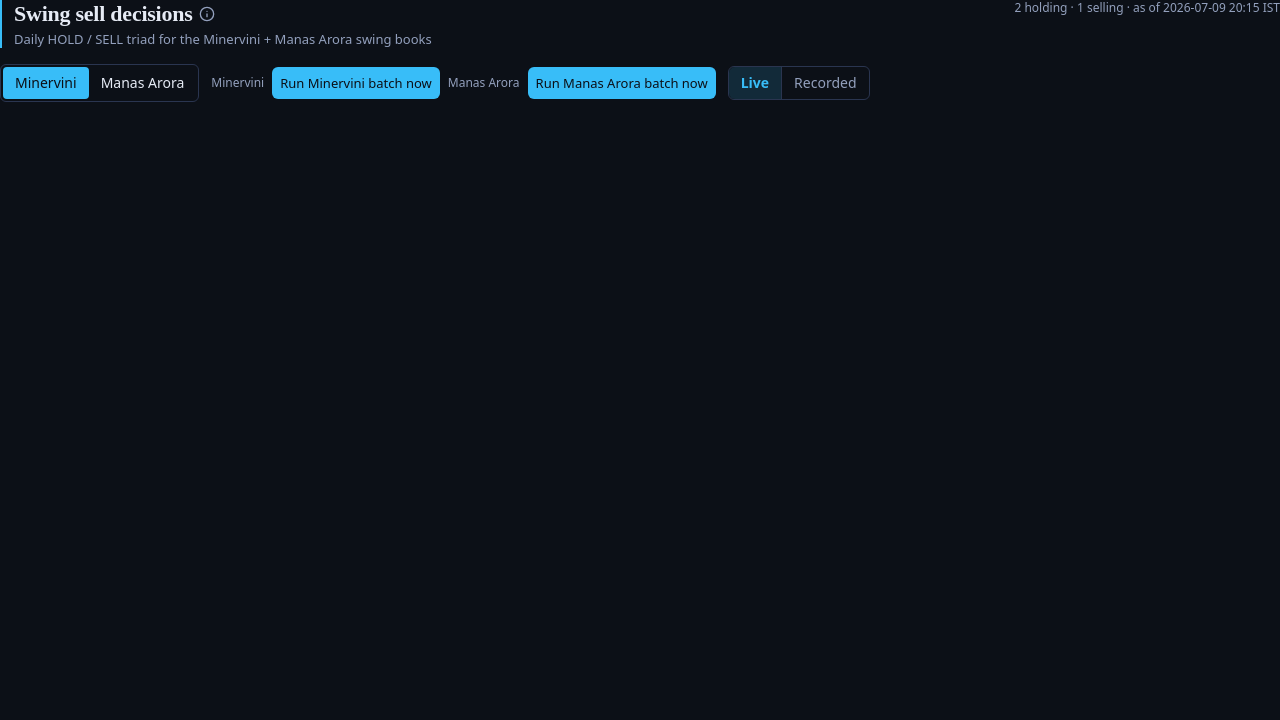
SwingSellDecisionsPage › shows the selected family catch-up status in the confirmation dialog
Step 1. Click the button "Run Minervini batch now" → (356, 83), box [272, 67, 440, 99]
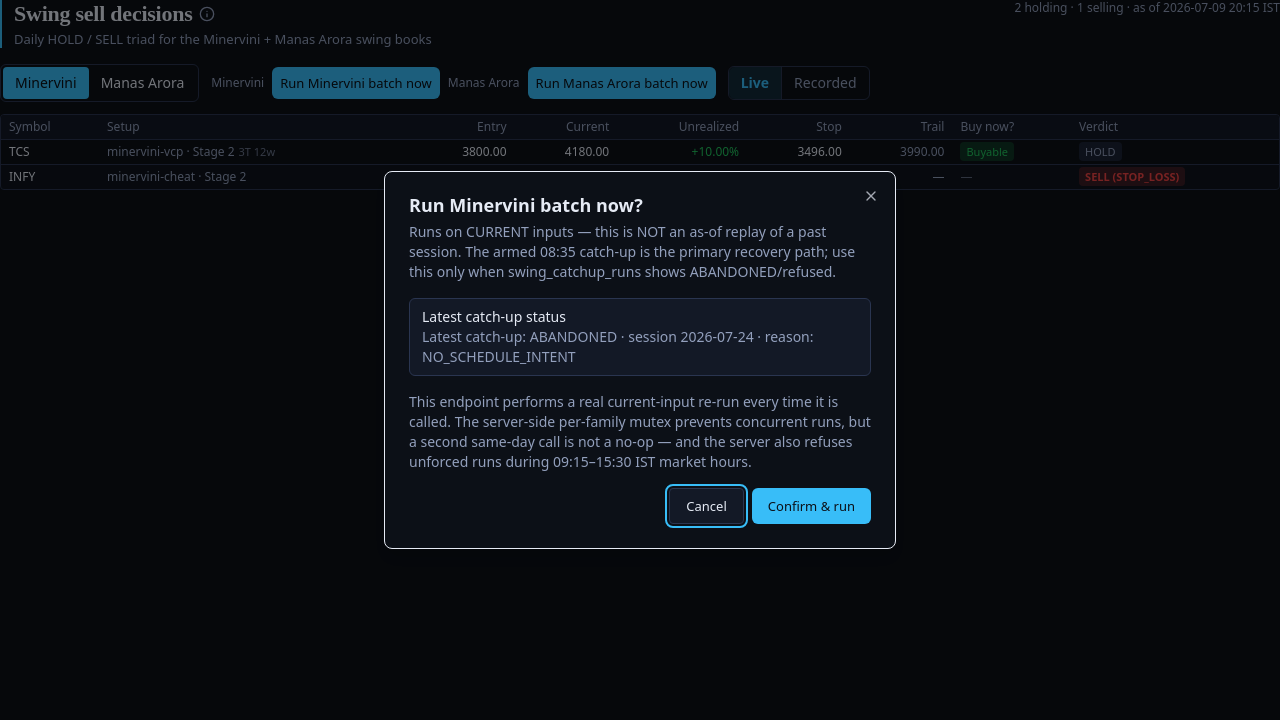
Expected: the text "reason: NO_SCHEDULE_INTENT" is shown, [422, 327, 858, 367]
